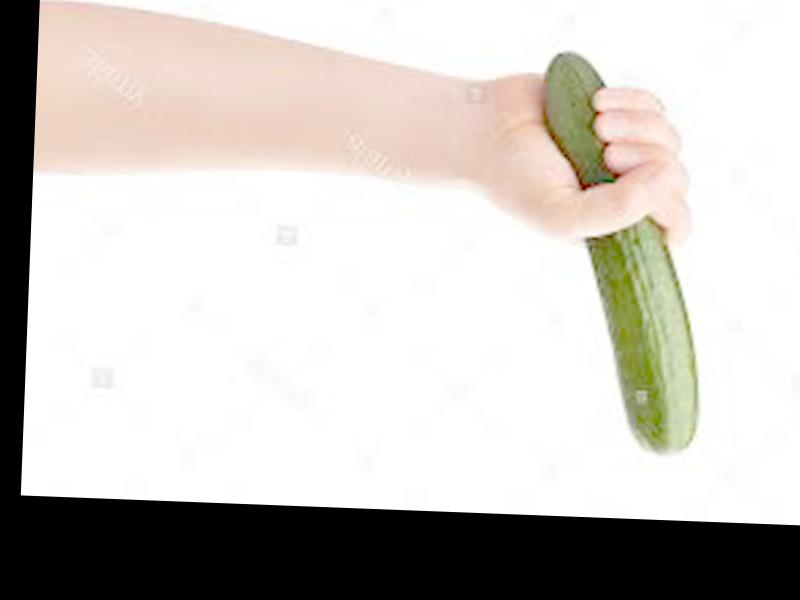Cucumber: (533, 52, 714, 455)
